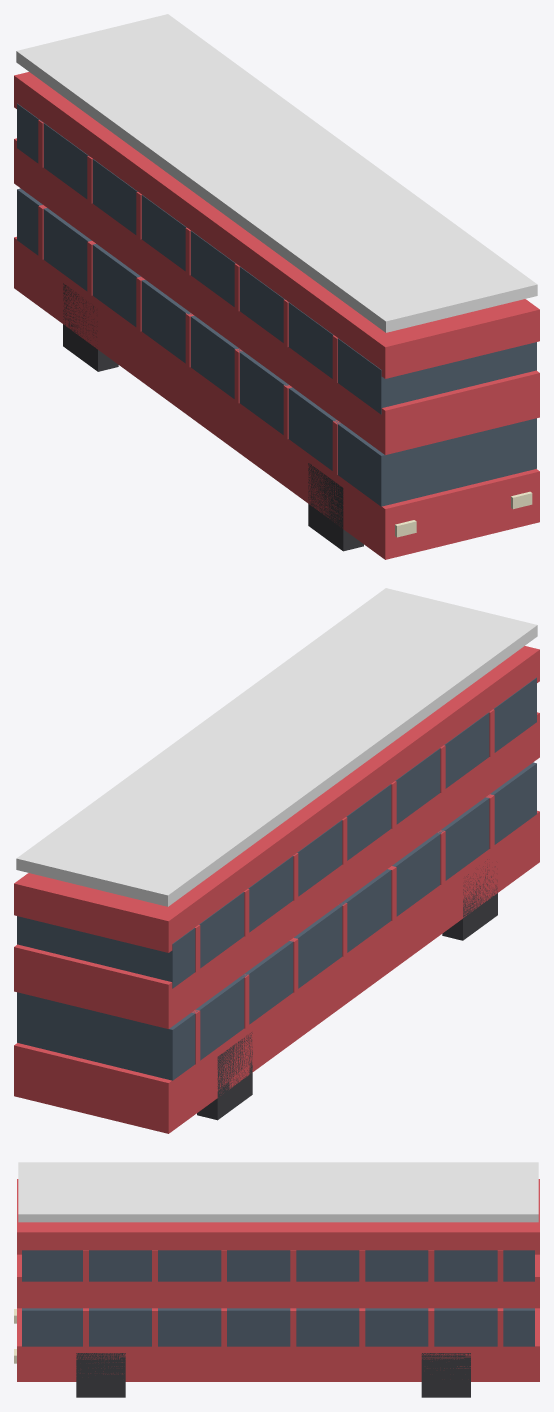
The picture shows the model from 3 angles, top to bottom: view 1: azimuth 30°, elevation 25°; view 2: azimuth 150°, elevation 25°; view 3: azimuth 270°, elevation 25°; orthographic projection. The views are drawn at different scales.
Visible parts, largest first — view 1: DoubleDecker; view 2: DoubleDecker; view 3: DoubleDecker.
Part boxes in pixels (x1,y1,x2,y2): DoubleDecker: (14,14,539,559); DoubleDecker: (14,588,539,1133); DoubleDecker: (14,1162,539,1397).
Bounding box in the file's own units: 2.6 × 4.09 × 10.66.
